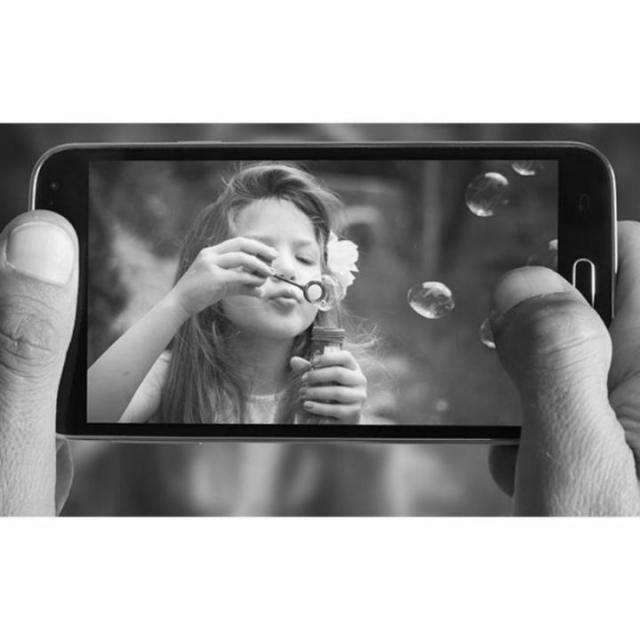fake: (22, 136, 624, 444)
